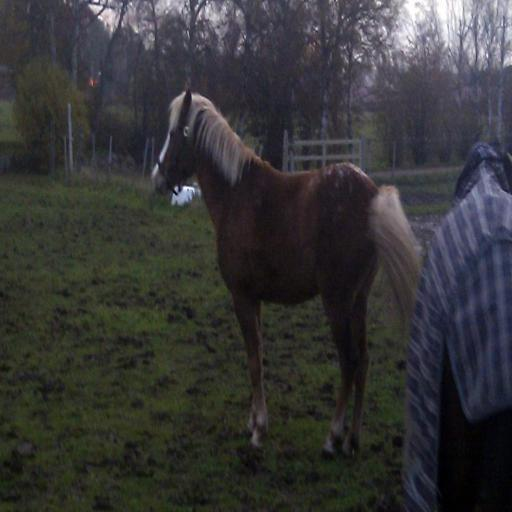horse: (151, 82, 425, 458)
